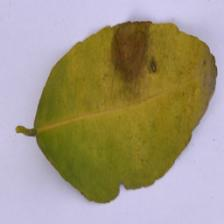black spot: (91, 19, 164, 76)
